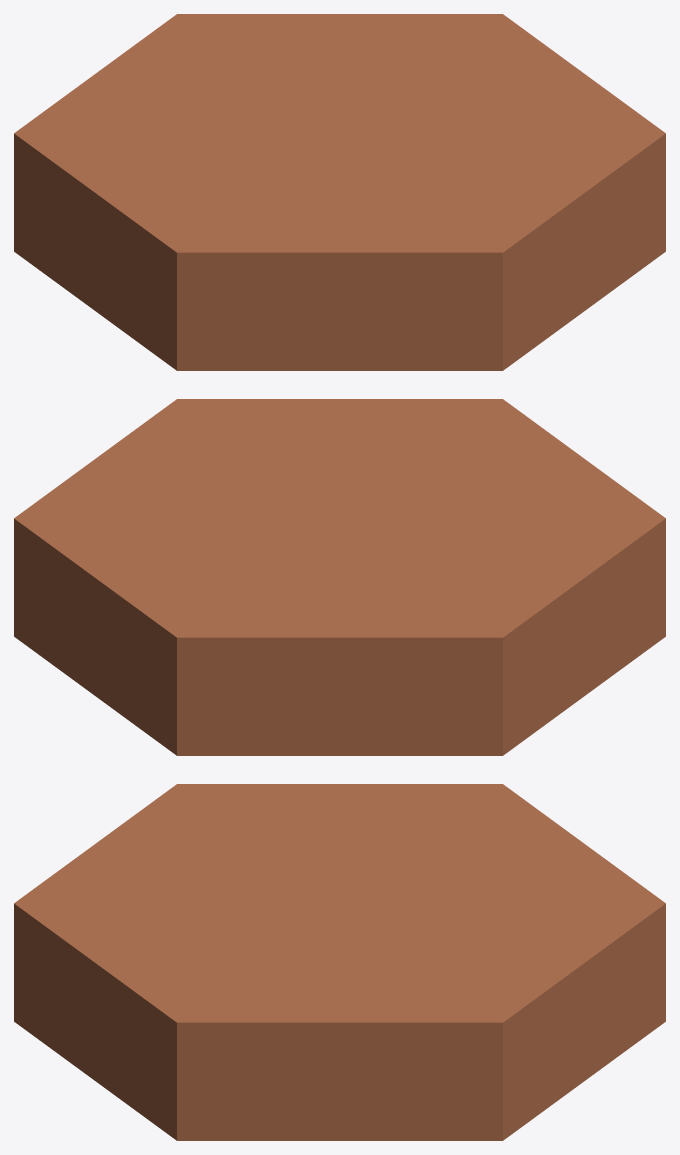
The model's file is ground_tile.glb.
The picture shows the model from 3 angles, top to bottom: view 1: azimuth 30°, elevation 25°; view 2: azimuth 150°, elevation 25°; view 3: azimuth 270°, elevation 25°; orthographic projection.
Parts seen in each view (by area): view 1: BaseTile; view 2: BaseTile; view 3: BaseTile.
Boxes of the visible parts, left/top/right/bottom form: BaseTile: left=14, top=14, right=665, bottom=370; BaseTile: left=14, top=399, right=665, bottom=755; BaseTile: left=14, top=784, right=665, bottom=1140.
Bounding box in the file's own units: 0.866 × 0.2 × 1.
1 material, 1 textured.
